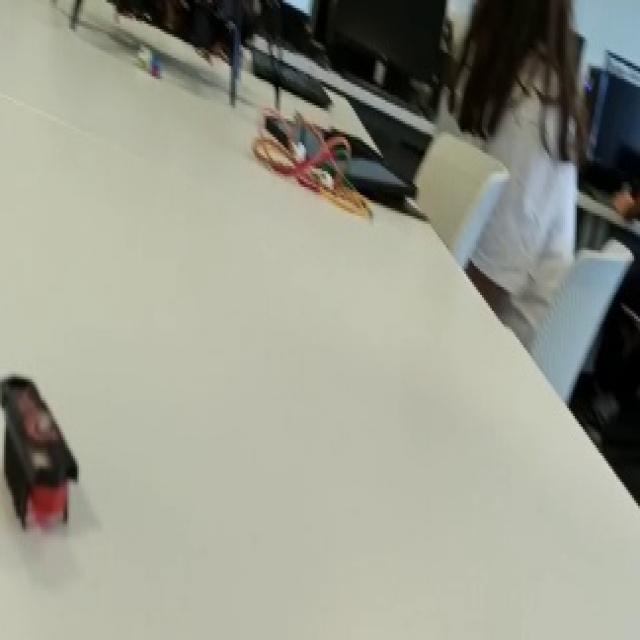2_NanoBug_Negro: (0, 356, 86, 560)
